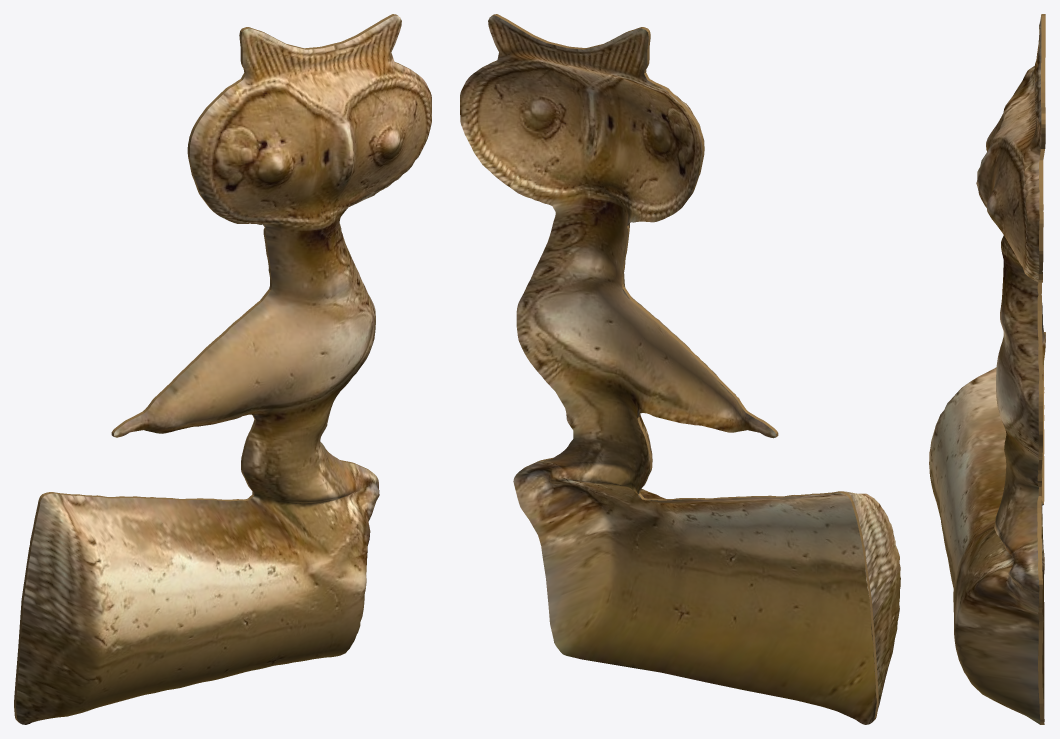
The model's file is cabeza_de_baston_de_buho.glb.
3 views of the same model, side by side, from view 1: azimuth 30°, elevation 25°; view 2: azimuth 150°, elevation 25°; view 3: azimuth 270°, elevation 25° (orthographic). The views are drawn at different scales.
Visible parts, largest first — view 1: cabeza_de_baston_de_buho; view 2: cabeza_de_baston_de_buho; view 3: cabeza_de_baston_de_buho.
Boxes of the visible parts, box(x1,y1,x2,y2) form: cabeza_de_baston_de_buho: box(14, 14, 431, 724); cabeza_de_baston_de_buho: box(460, 14, 900, 724); cabeza_de_baston_de_buho: box(929, 14, 1045, 724).
Bounding box in the file's own units: 3.47 × 5.15 × 0.8137.
1 material, 1 textured.
